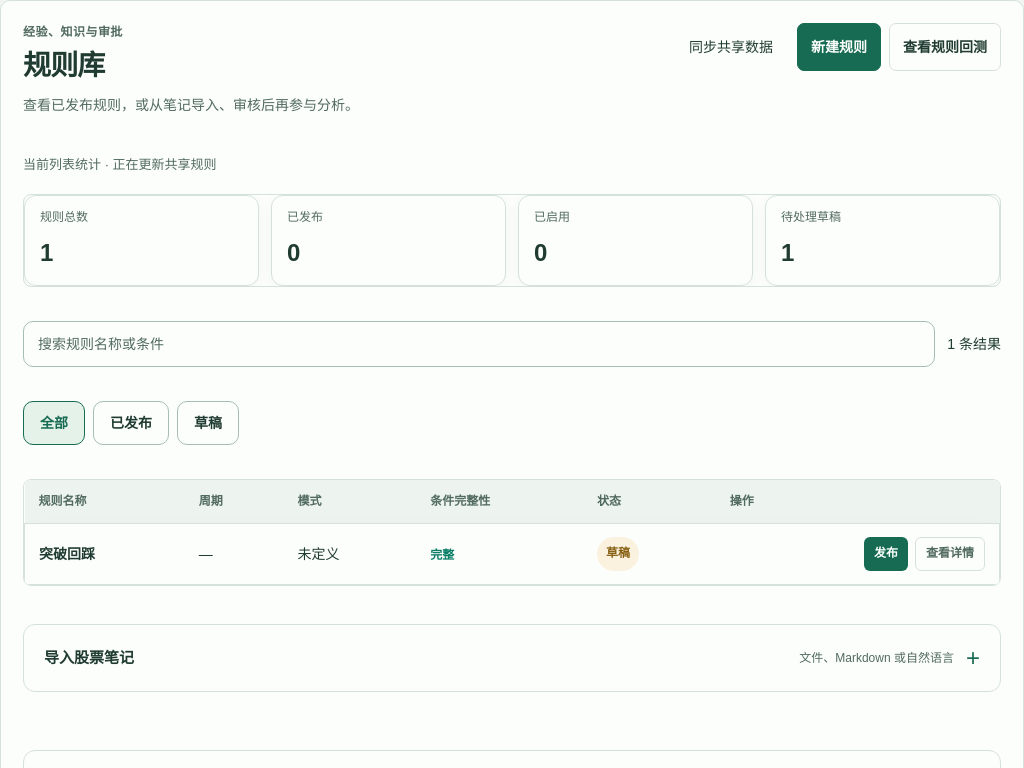
Test: 交易、复盘与规则库 › 规则库只有发布后的规则进入分析
The image size is (1024, 768).
Check: the text "草稿" is shown, box [597, 537, 639, 571]
Click the button with aria-label "发布突破回踩".
click(886, 554)  # box [864, 537, 908, 571]
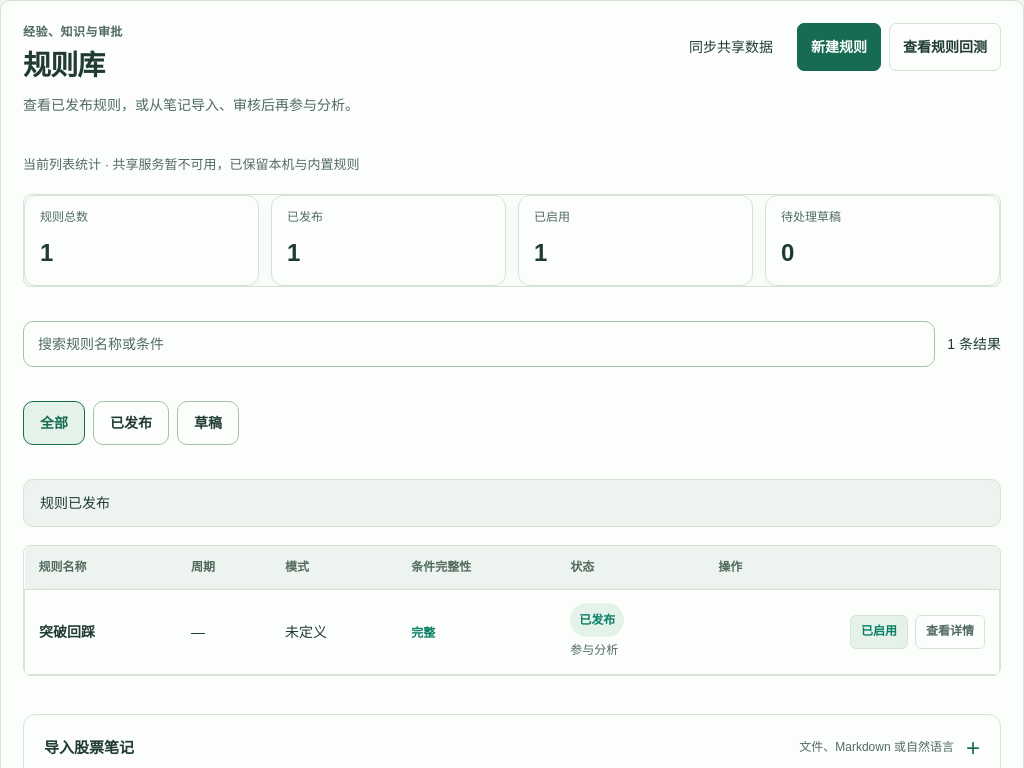
Check: the text "已发布" in the row of "突破回踩" is shown, box [579, 613, 615, 627]
Check: the text "参与分析" is shown, box [570, 643, 618, 657]
